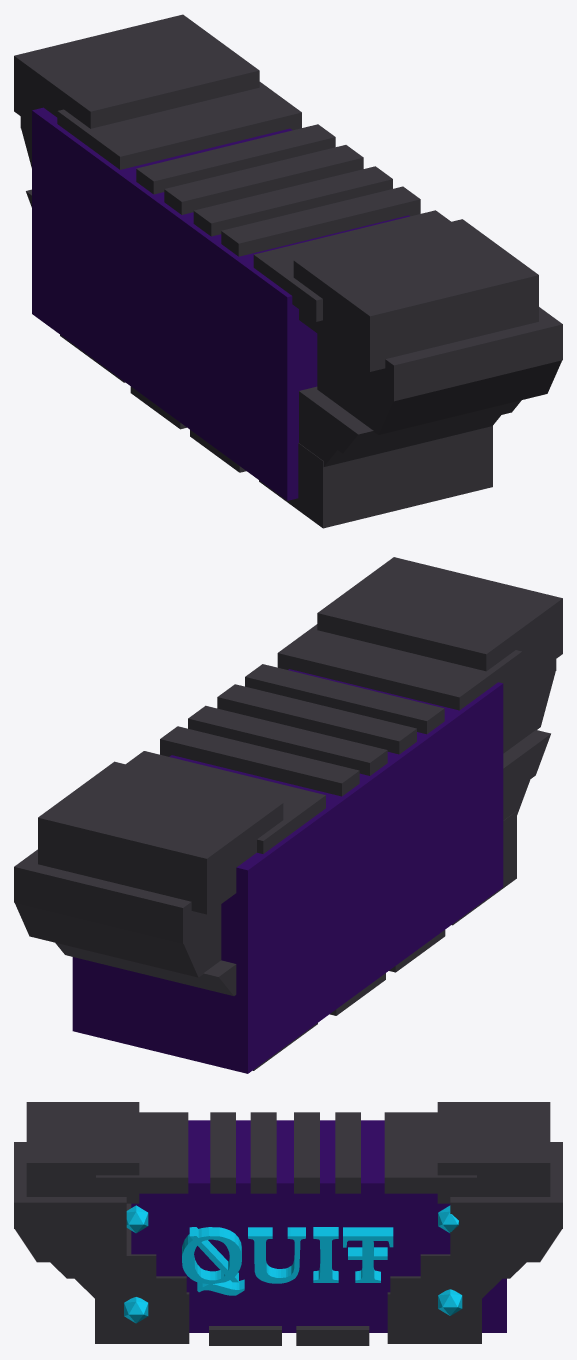
File: Quit_Button.fbx
3 views of the same model, one above another, from view 1: azimuth 30°, elevation 25°; view 2: azimuth 150°, elevation 25°; view 3: azimuth 270°, elevation 25° (orthographic). The views are drawn at different scales.
Visible parts, largest first — view 1: Cube, Cube_7, Cube_15, Cube_14, Cube_2, Cube_8, Cube_9, Cube_3, Cube_5, Cube_6, Cube_4, Cube_1 (+2 smaller); view 2: Cube, Cube_15, Cube_7, Cube_1, Cube_16, Cube_17, Cube_6, Cube_4, Cube_5, Cube_3, Cube_2, Cube_18 (+3 smaller); view 3: Cube, Cube_15, Cube_7, Cube_2, Cube_1, Cap_1, Cube_20, Cube_14, Cube_8, Cube_16, Cube_9, Extrude (+15 smaller).
Part boxes in pixels (x1,y1,x2,y2): Cube: [32, 107, 409, 500]; Cube_7: [293, 219, 538, 371]; Cube_15: [14, 14, 259, 128]; Cube_14: [259, 426, 492, 528]; Cube_2: [57, 82, 301, 169]; Cube_8: [317, 307, 562, 401]; Cube_9: [317, 344, 561, 434]; Cube_3: [221, 186, 420, 256]; Cube_5: [164, 145, 363, 214]; Cube_6: [136, 124, 335, 194]; Cube_4: [193, 166, 392, 236]; Cube_1: [253, 210, 450, 321]; Cube: [72, 669, 503, 1073]; Cube_15: [38, 761, 283, 914]; Cube_7: [317, 557, 562, 697]; Cube_1: [277, 624, 522, 710]; Cube_16: [14, 849, 221, 943]; Cube_17: [15, 903, 221, 977]; Cube_6: [160, 726, 359, 796]; Cube_4: [217, 684, 416, 754]; Cube_5: [188, 705, 387, 775]; Cube_3: [245, 664, 444, 734]; Cube_2: [126, 751, 325, 853]; Cube_18: [55, 943, 236, 995]; Cube: [131, 1120, 506, 1332]; Cube_15: [437, 1102, 550, 1203]; Cube_7: [26, 1102, 139, 1203]; Cube_2: [384, 1112, 476, 1193]; Cube_1: [96, 1112, 188, 1193]; Cap_1: [182, 1236, 393, 1295]; Cube_20: [387, 1292, 481, 1343]; Cube_14: [95, 1292, 189, 1343]; Cube_8: [14, 1142, 126, 1228]; Cube_16: [450, 1142, 562, 1228]; Cube_9: [14, 1228, 126, 1262]; Extrude: [182, 1227, 393, 1290].
Bounding box in the file's own units: 160 × 186 × 512.
